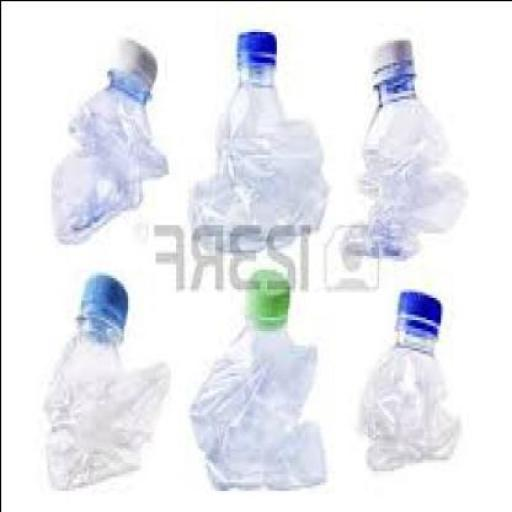plastic: (188, 25, 330, 247), (192, 268, 326, 492), (46, 271, 172, 490), (344, 39, 468, 255), (52, 36, 172, 241), (358, 291, 456, 473), (76, 269, 128, 335), (108, 33, 158, 84), (370, 36, 419, 84), (396, 285, 443, 333), (248, 269, 290, 313), (238, 24, 280, 62)
